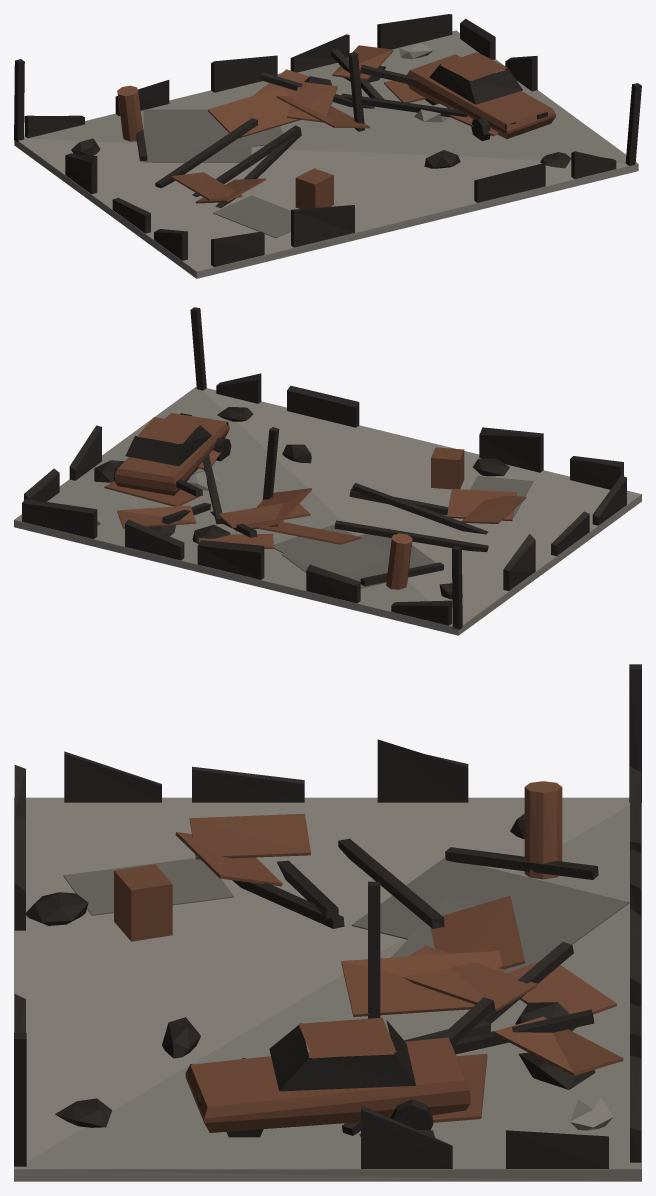
Rendered from ruin_14x10.glb.
3 renders of one model, top to bottom at view 1: azimuth 30°, elevation 25°; view 2: azimuth 150°, elevation 25°; view 3: azimuth 270°, elevation 25°, orthographic. The views are drawn at different scales.
Parts seen in each view (by area): view 1: ruin; view 2: ruin; view 3: ruin.
Boxes of the visible parts, x1,y1,x2,y2 form: ruin: (14, 14, 641, 278); ruin: (14, 307, 641, 635); ruin: (14, 664, 641, 1181).
Size of the model in its own units: 14.12 by 2.67 by 10.
